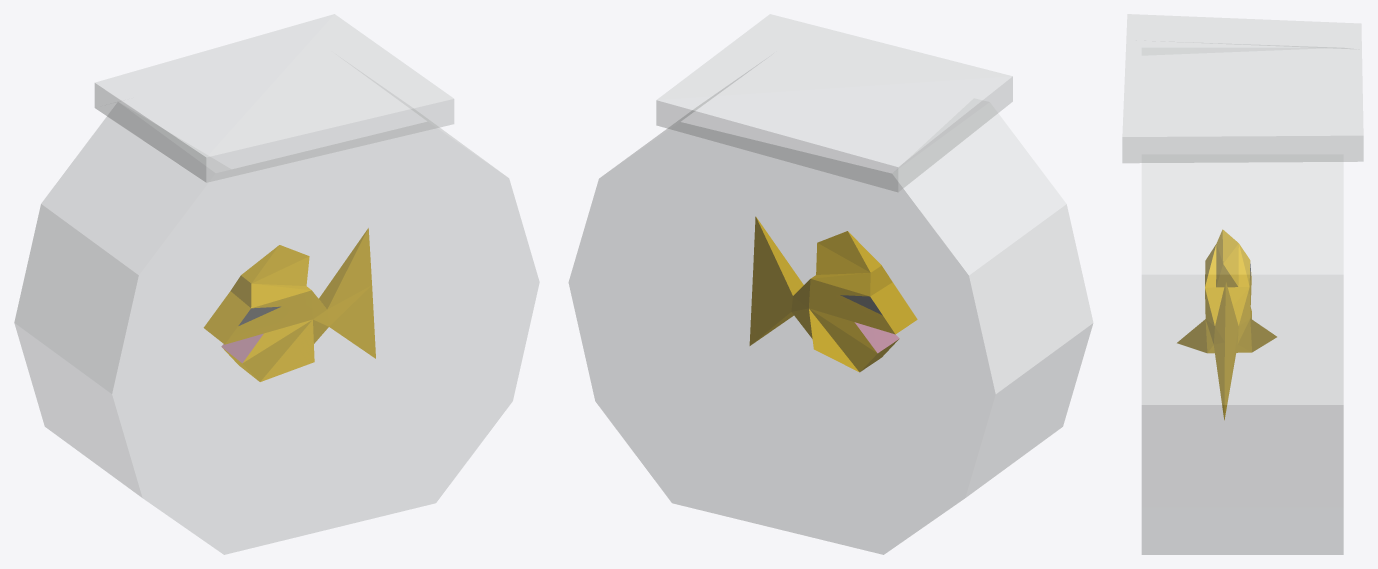
Rendered from fishtank.gltf.
3 views of the same model, side by side, from view 1: azimuth 30°, elevation 25°; view 2: azimuth 150°, elevation 25°; view 3: azimuth 270°, elevation 25° (orthographic). The views are drawn at different scales.
Parts seen in each view (by area): view 1: mesh701238410, mesh837923450; view 2: mesh701238410, mesh837923450; view 3: mesh701238410, mesh837923450.
Part boxes in pixels (box(x1,y1,x2,y2)): mesh701238410: box(14, 14, 539, 554); mesh837923450: box(204, 228, 375, 381); mesh701238410: box(568, 14, 1092, 554); mesh837923450: box(749, 217, 917, 372); mesh701238410: box(1122, 14, 1363, 554); mesh837923450: box(1177, 229, 1276, 419).
Size of the model in its own units: 0.5299 by 0.4844 by 0.2507.
